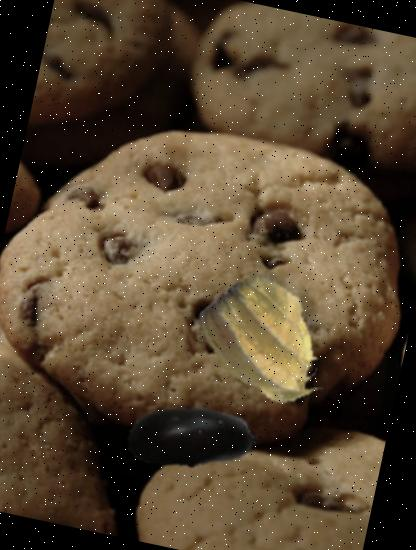Eggplant: (114, 358, 272, 517)
Physalis: (188, 263, 350, 425)
